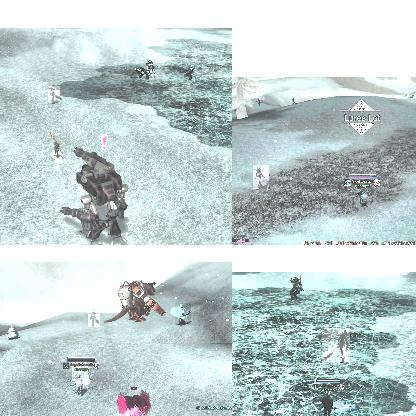caliana: (322, 328, 350, 362), (253, 165, 269, 189), (175, 303, 191, 325), (88, 309, 100, 327), (48, 86, 60, 102), (186, 66, 192, 80), (290, 98, 296, 104), (256, 99, 260, 107)
